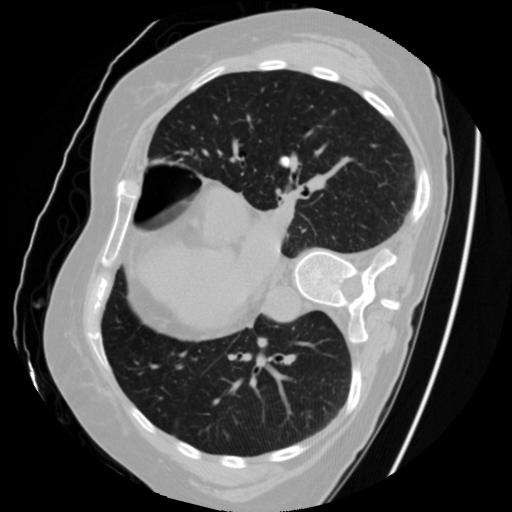nodule: (275, 150, 296, 171)
